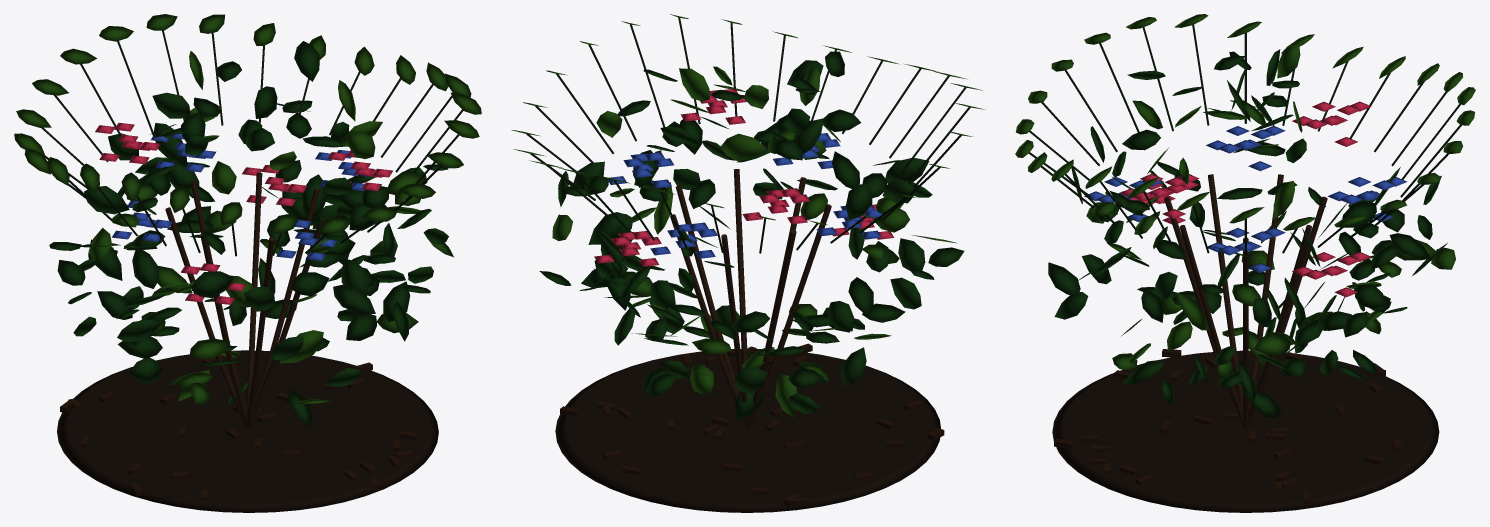
The model's file is HydrangeaBush.gltf.
3 views of the same model, side by side, from view 1: azimuth 30°, elevation 25°; view 2: azimuth 150°, elevation 25°; view 3: azimuth 270°, elevation 25° (orthographic).
Parts seen in each view (by area): view 1: HydrangeaBush__Body, HydrangeaBush__Overgrowth; view 2: HydrangeaBush__Body, HydrangeaBush__Overgrowth; view 3: HydrangeaBush__Body, HydrangeaBush__Overgrowth.
Part boxes in pixels (bbox=[...]): HydrangeaBush__Body: bbox=[49, 41, 453, 512]; HydrangeaBush__Overgrowth: bbox=[14, 14, 481, 256]; HydrangeaBush__Body: bbox=[539, 51, 964, 512]; HydrangeaBush__Overgrowth: bbox=[511, 14, 985, 253]; HydrangeaBush__Body: bbox=[1048, 45, 1455, 512]; HydrangeaBush__Overgrowth: bbox=[1015, 14, 1475, 255].
Size of the model in its own units: 1.12 by 1.01 by 1.12.
Materials: 1 (1 with a texture image).
